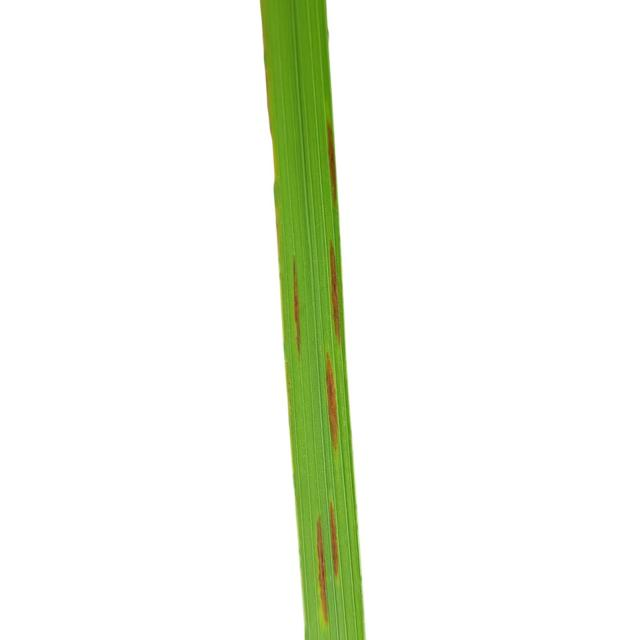Narrow brown: (223, 0, 478, 640)
